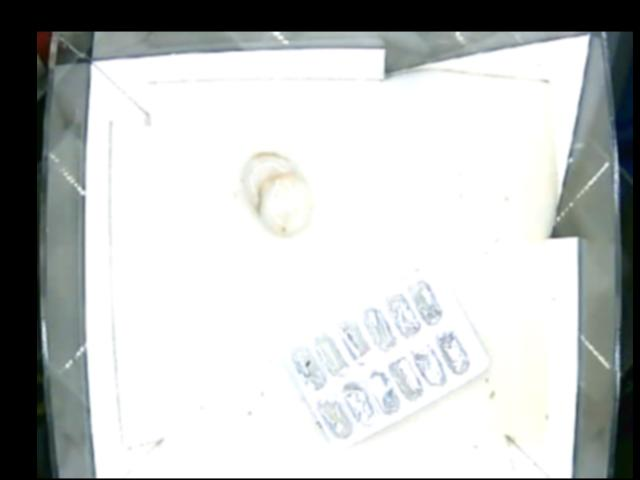Medicine: (281, 263, 492, 446)
Pebble: (240, 149, 314, 238)
